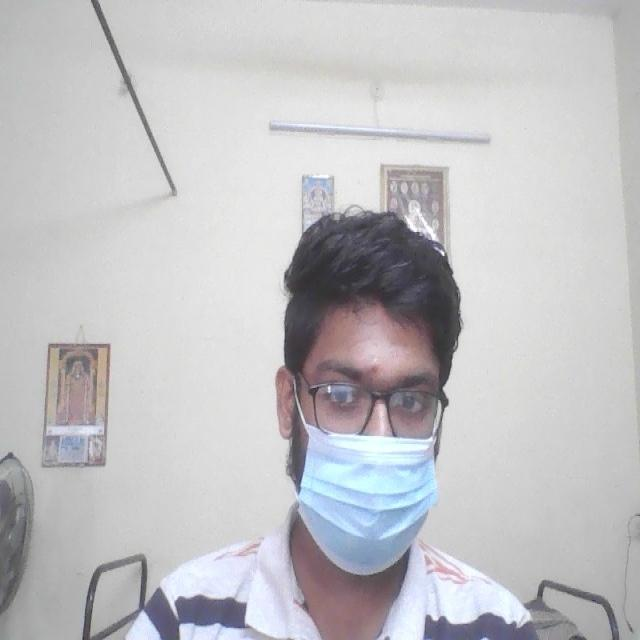Focused: (267, 298, 454, 551)
